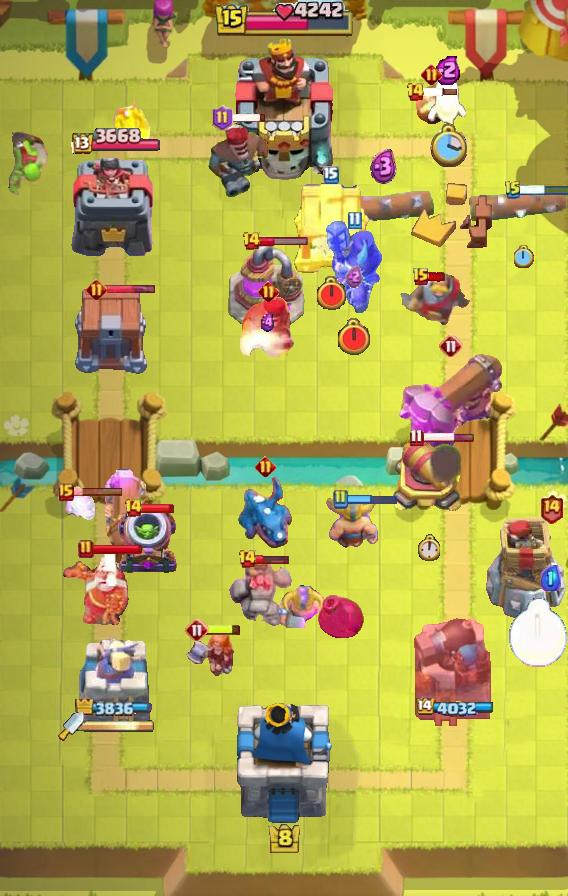baby-dragon: (315, 590, 367, 644)
bar: (77, 637, 151, 731)
bar-level: (0, 132, 50, 198)
bat: (428, 71, 468, 129)
battle-healer: (104, 469, 150, 573)
bomb: (291, 180, 371, 274), (72, 289, 150, 375)
bomber: (416, 95, 446, 127)
clock: (213, 0, 355, 40)
electro-spirit: (370, 149, 397, 185), (434, 55, 462, 85), (541, 565, 561, 591), (345, 265, 363, 288), (259, 313, 277, 331)
elixir: (508, 598, 568, 668), (429, 123, 467, 169), (336, 318, 372, 357), (315, 276, 349, 312), (416, 534, 439, 561), (514, 244, 534, 267)
elixir-collector: (62, 548, 134, 628)
emote: (346, 494, 398, 507), (520, 184, 568, 197), (91, 543, 143, 555), (421, 432, 475, 443), (258, 236, 310, 247), (104, 285, 156, 296), (72, 486, 124, 497), (206, 623, 242, 637), (254, 553, 289, 565), (230, 112, 267, 123), (141, 502, 175, 513), (422, 87, 458, 97), (429, 271, 448, 283)
firecracker: (399, 273, 471, 326)
furnace: (397, 351, 505, 451)
goblin-cage: (115, 506, 179, 576)
goblin-giant: (325, 497, 381, 551), (277, 584, 327, 627)
graveyard: (236, 476, 294, 550)
hog-rider: (183, 631, 237, 681)
ice-spirit-evolution: (63, 489, 99, 525)
inferno-dragon: (325, 219, 383, 313)
king-tower: (228, 35, 340, 181), (235, 703, 333, 826)
king-tower-bar: (84, 719, 154, 733)
minion: (330, 189, 436, 227), (468, 186, 568, 222)
pekka: (228, 246, 306, 328)
phoenix-small: (206, 120, 272, 200), (239, 293, 297, 357)
queen-tower: (68, 158, 159, 256)
royal-recruit: (392, 442, 464, 516)
selected: (68, 127, 159, 156), (414, 698, 494, 718), (75, 700, 153, 717)
text: (540, 492, 564, 523), (439, 334, 463, 358), (185, 618, 209, 642), (211, 105, 233, 131), (257, 281, 279, 303), (421, 63, 442, 84), (85, 280, 106, 301), (256, 455, 277, 476), (242, 231, 262, 251), (406, 82, 425, 102), (124, 498, 143, 518), (239, 549, 258, 569), (504, 180, 522, 200), (412, 267, 430, 287), (332, 489, 348, 509), (78, 539, 94, 559), (323, 166, 339, 184), (58, 483, 74, 501), (346, 211, 361, 230), (408, 428, 423, 447)
tower-bar: (410, 611, 496, 731)
valkyrie: (111, 87, 153, 153)
valkyrie-evolution: (229, 563, 295, 629)
zappy: (486, 517, 568, 623)
